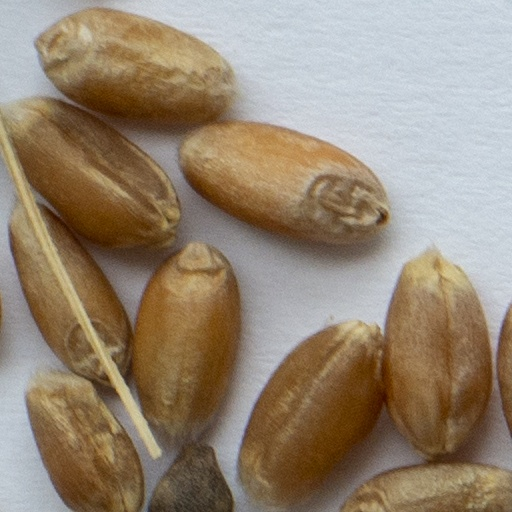Wheat-grain-damaged-poly: (0, 295, 295, 342)
